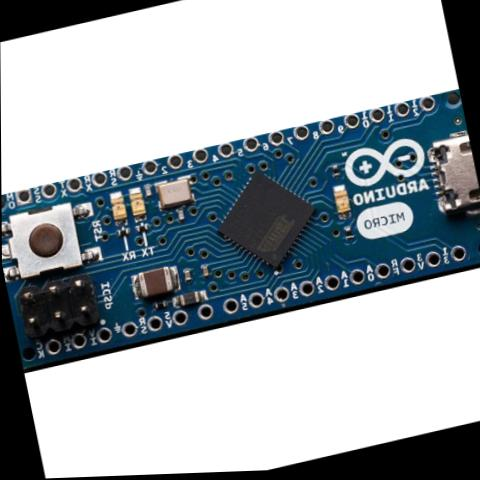Arduino-Micro: (1, 92, 480, 374)
